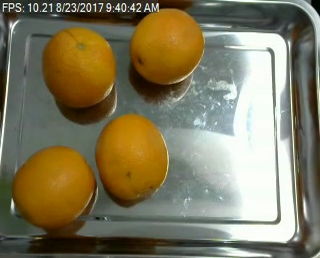Orange: (12, 143, 96, 226), (96, 115, 170, 201), (42, 27, 116, 107), (128, 9, 203, 85)
